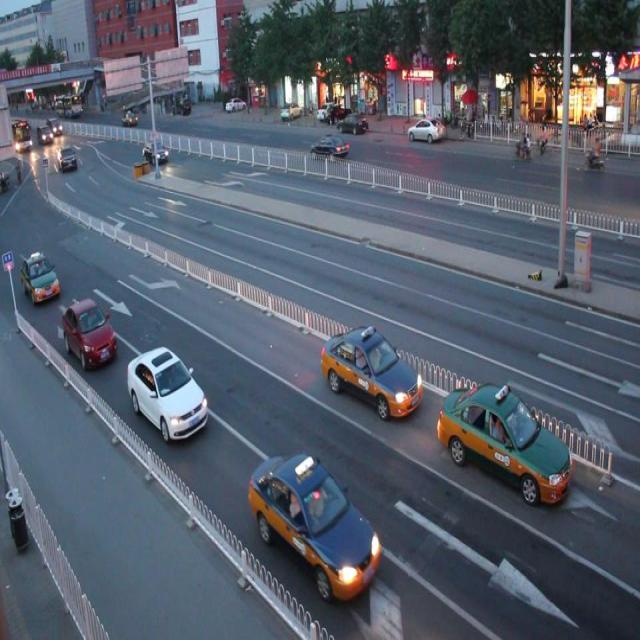car: (247, 450, 381, 598), (436, 377, 573, 502), (322, 325, 424, 418), (126, 343, 209, 439), (61, 297, 118, 368), (22, 251, 61, 304), (310, 133, 350, 163)
